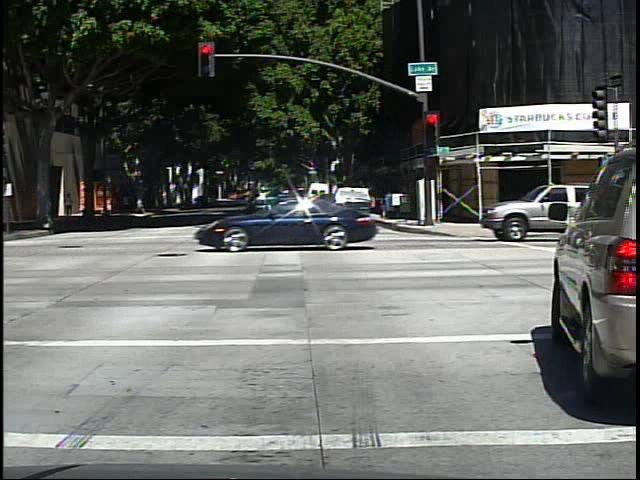person: (63, 191, 76, 220)
